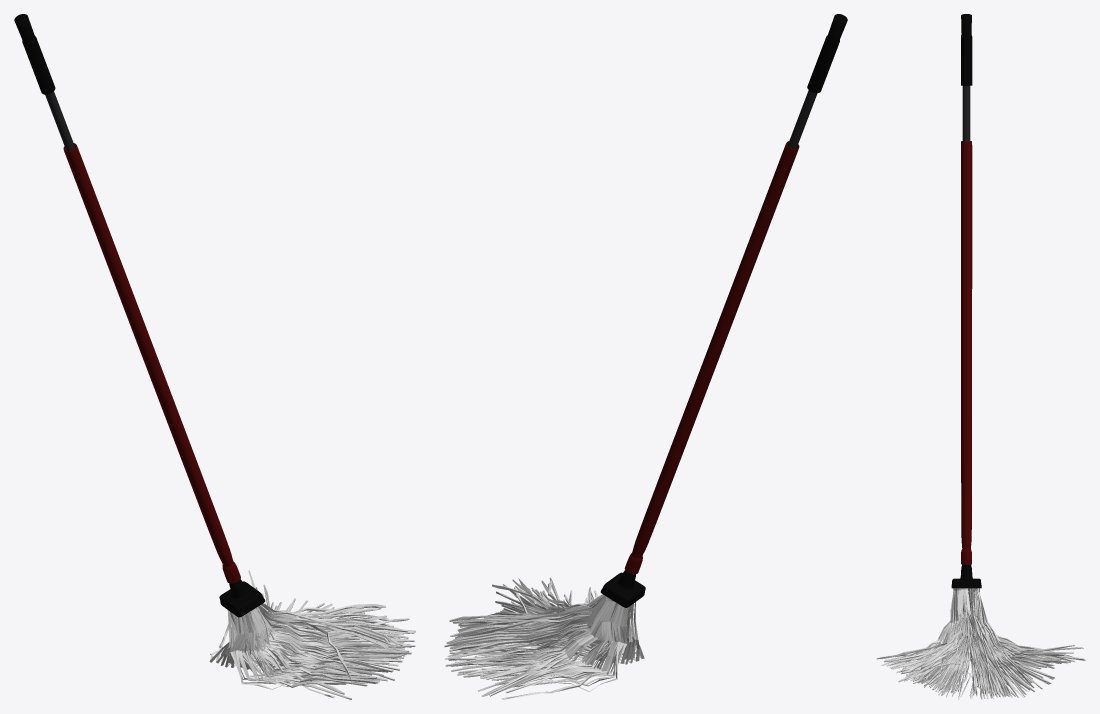
Rendered from mop.FBX.
3 views of the same model, side by side, from view 1: azimuth 30°, elevation 25°; view 2: azimuth 150°, elevation 25°; view 3: azimuth 270°, elevation 25° (orthographic). The views are drawn at different scales.
Visible parts, largest first — view 1: mop; view 2: mop; view 3: mop.
Boxes of the visible parts, x1,y1,x2,y2 form: mop: (14, 14, 415, 699); mop: (444, 14, 847, 699); mop: (876, 14, 1085, 699).
Size of the model in its own units: 528 by 323 by 936.
